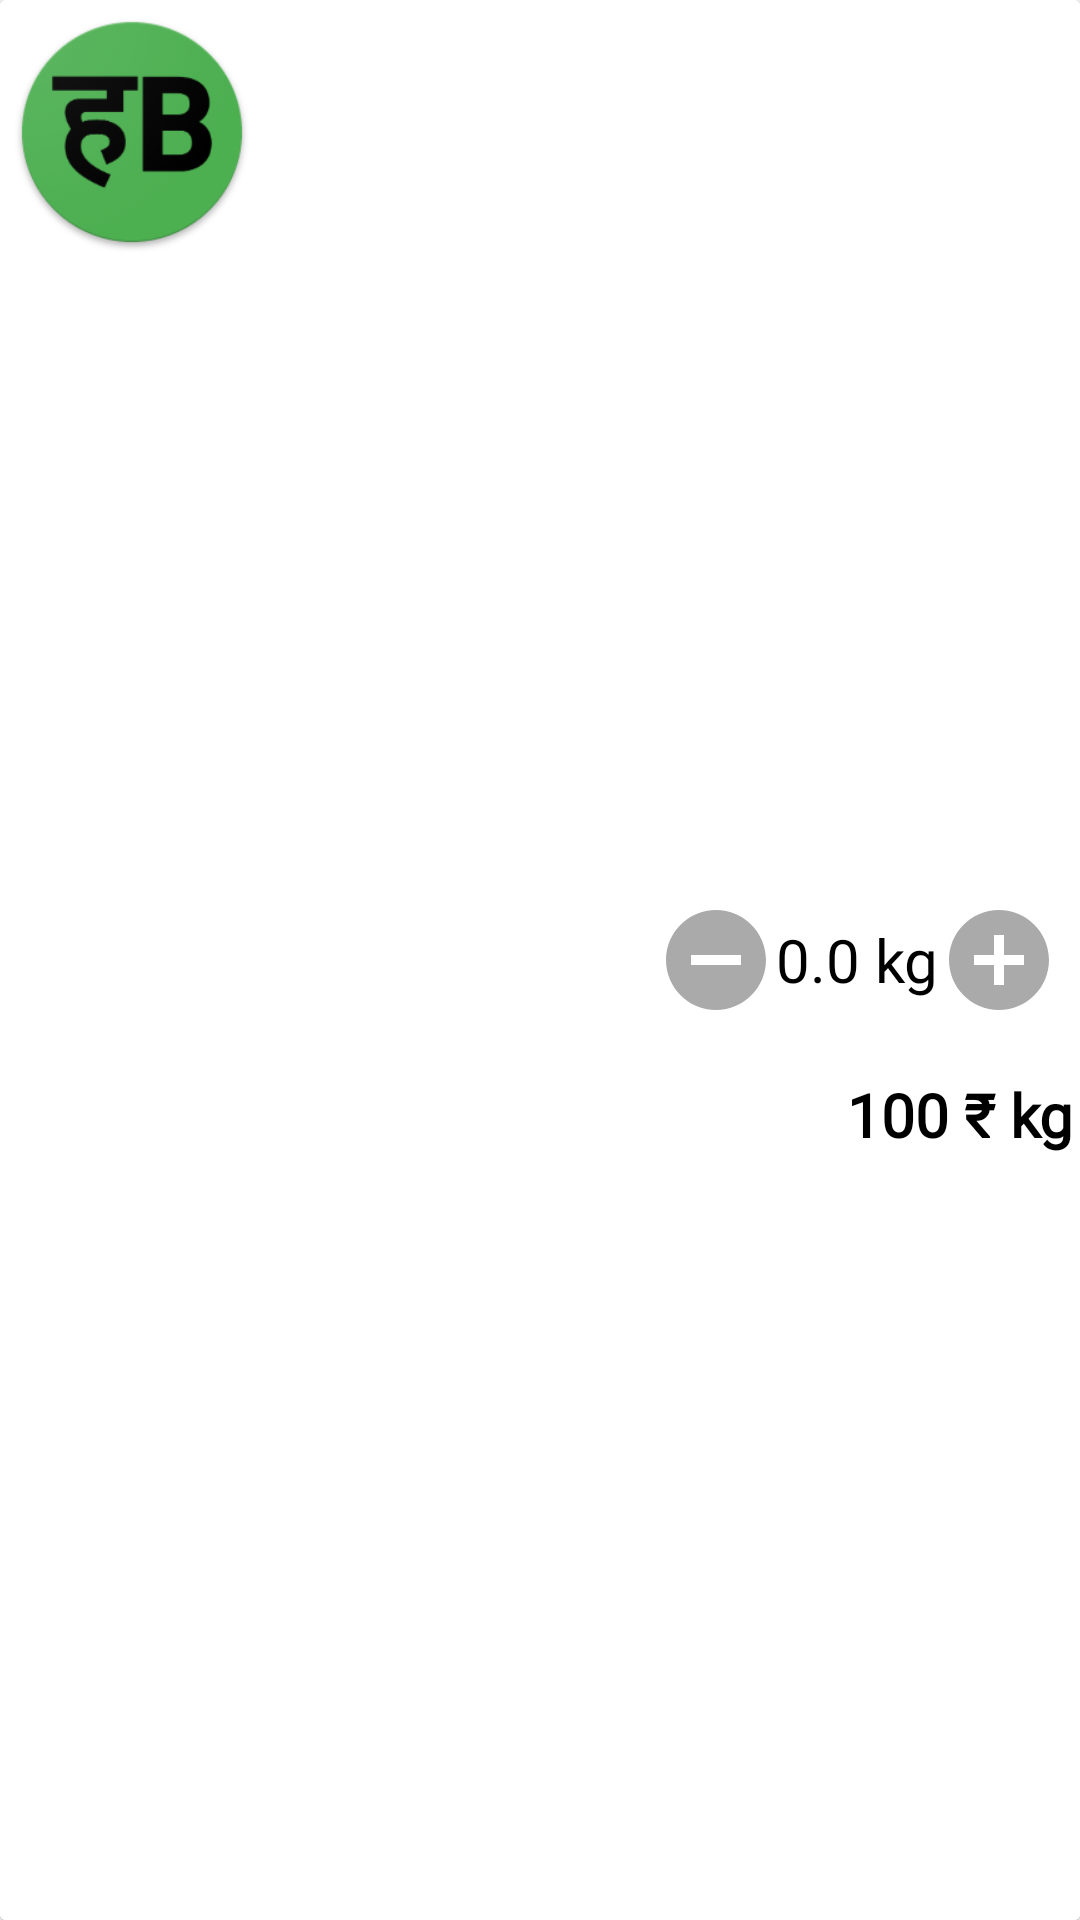

Named icons in this screenshot (1080px×1920px) and their bounding boxes, (x1, y1, x2, y2):
add circle full: (949, 910, 1049, 1010)
remove circle full: (666, 910, 766, 1010)
